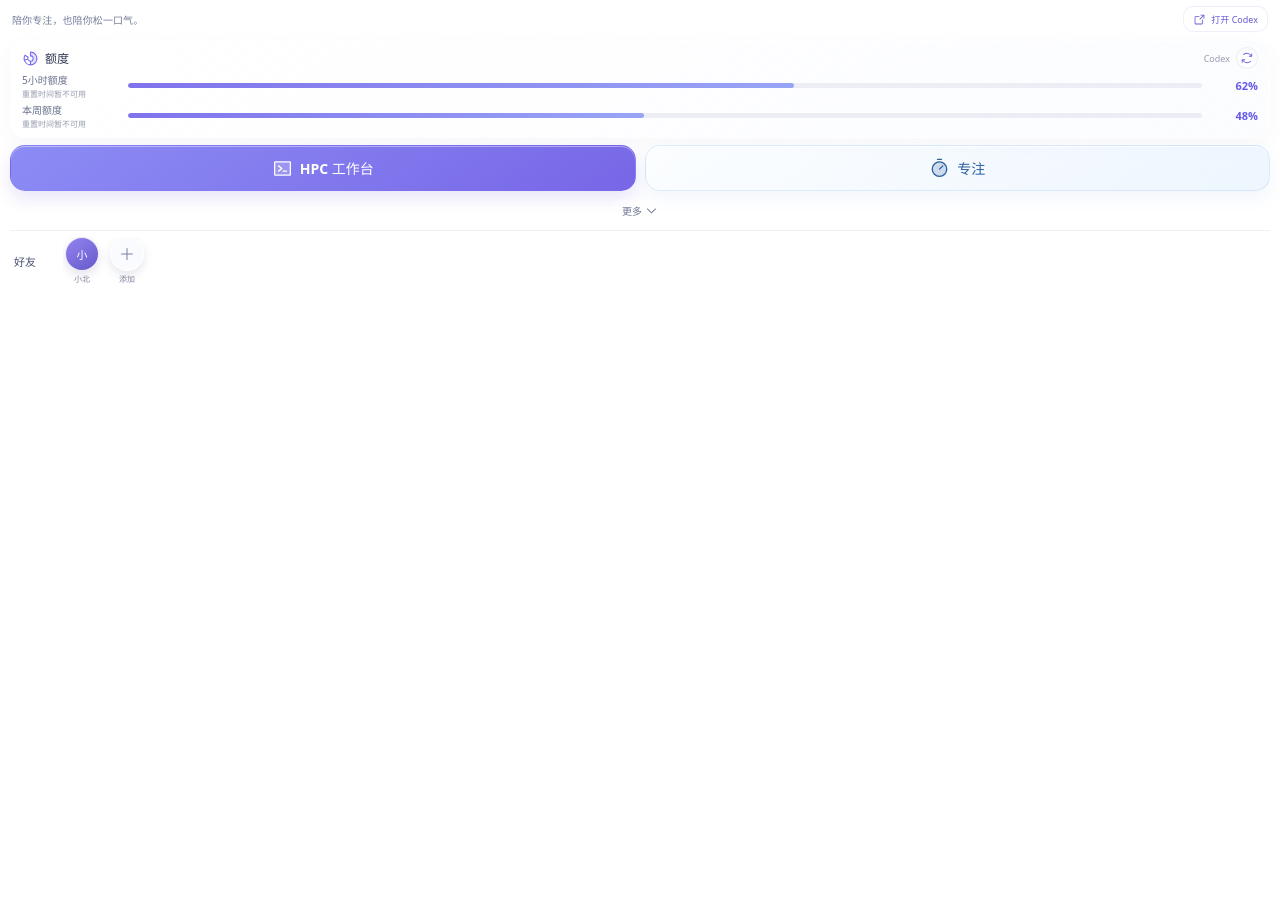
Test: HomePage › renders the real friend view model and opens the add dialog
Expected: the button named "小北" is shown, left=65, top=237, right=99, bottom=271
Click the button named "添加好友" at point(127, 254), box left=110, top=237, right=144, bottom=271
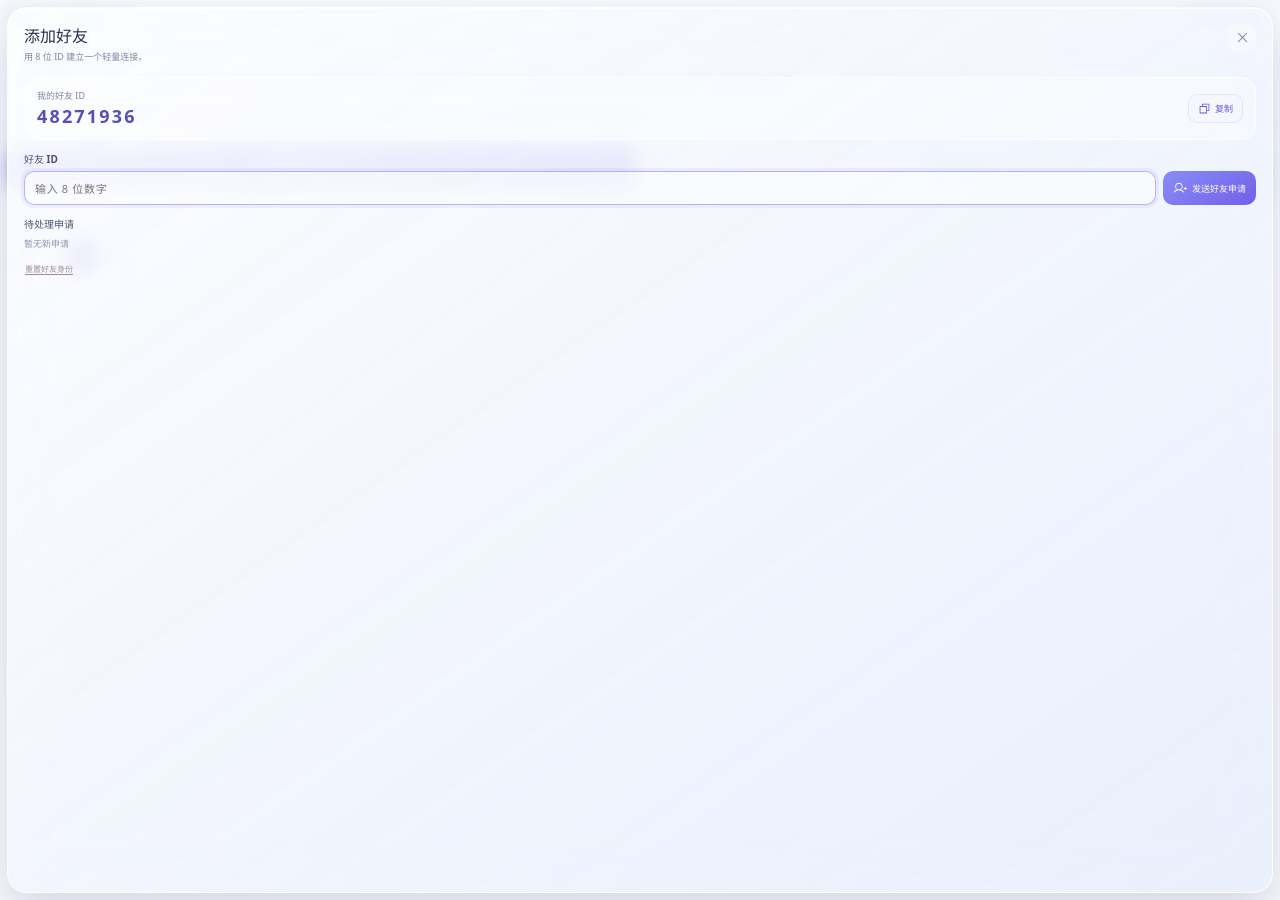
Expected: the dialog "添加好友" is shown
